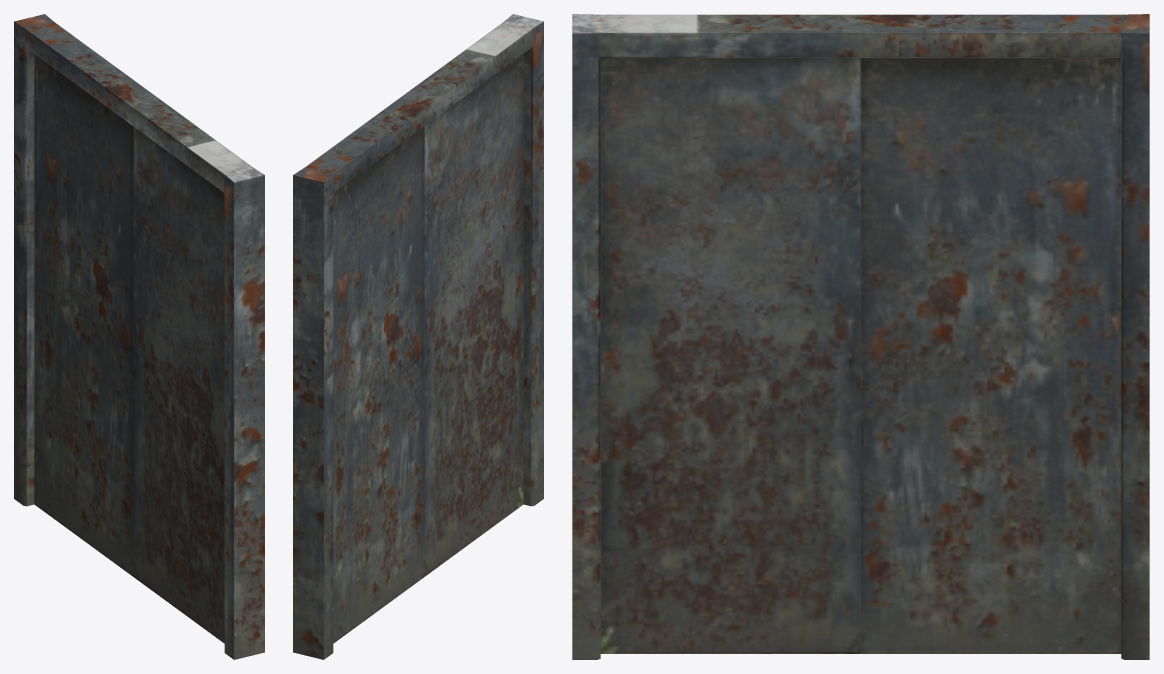
Rendered from Metal_DoubleDoorSet.FBX.
3 renders of one model, left to right at view 1: azimuth 30°, elevation 25°; view 2: azimuth 150°, elevation 25°; view 3: azimuth 270°, elevation 25°, orthographic. The views are drawn at different scales.
Parts seen in each view (by area): view 1: Metal_DoubleDoor_R, Metal_DoubleDoor_L, Metal_DoubleDoorFrame; view 2: Metal_DoubleDoor_L, Metal_DoubleDoor_R, Metal_DoubleDoorFrame; view 3: Metal_DoubleDoor_R, Metal_DoubleDoor_L, Metal_DoubleDoorFrame.
Boxes of the visible parts, <box> form: Metal_DoubleDoor_R: <box>34,54,133,576</box>; Metal_DoubleDoor_L: <box>133,127,224,643</box>; Metal_DoubleDoorFrame: <box>14,14,264,659</box>; Metal_DoubleDoor_L: <box>424,54,523,576</box>; Metal_DoubleDoor_R: <box>333,126,424,643</box>; Metal_DoubleDoorFrame: <box>293,14,543,659</box>; Metal_DoubleDoor_R: <box>860,58,1121,653</box>; Metal_DoubleDoor_L: <box>600,58,860,653</box>; Metal_DoubleDoorFrame: <box>572,14,1149,659</box>.
Size of the model in its own units: 15 by 223 by 186.
